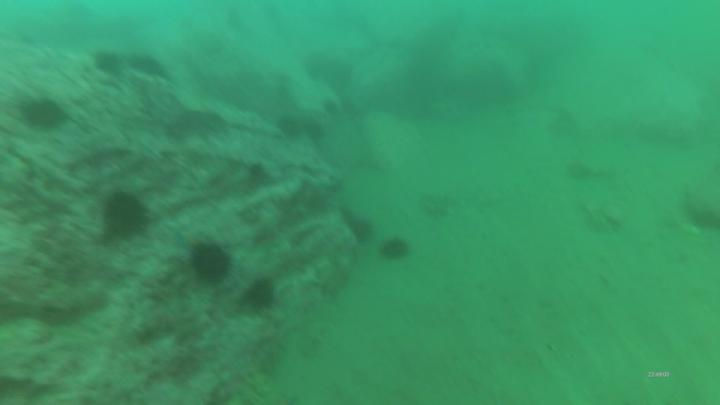echinus: (101, 190, 154, 241), (15, 97, 73, 135), (191, 241, 233, 288), (126, 54, 173, 82), (242, 278, 279, 313), (90, 47, 126, 79), (273, 113, 306, 144), (378, 236, 412, 264), (302, 51, 331, 82), (350, 218, 377, 245), (302, 116, 326, 143), (337, 204, 356, 232), (339, 97, 356, 114), (324, 99, 338, 116)
